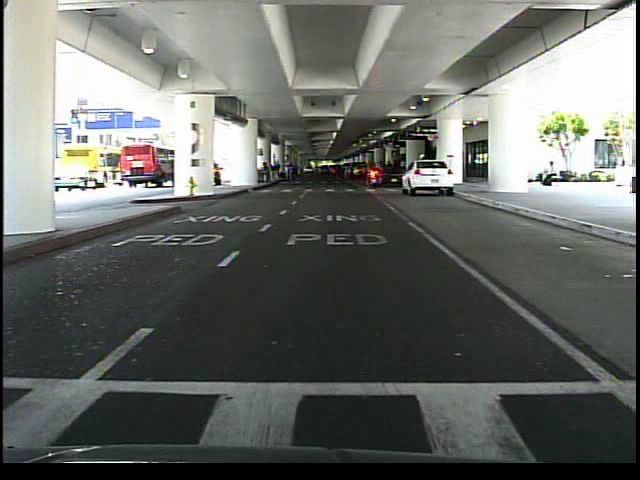person: (535, 155, 563, 192)
